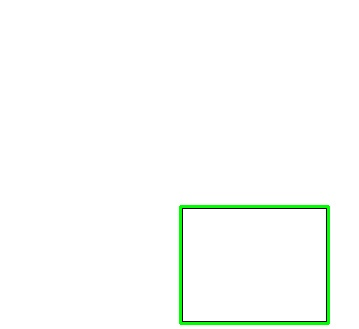line_segment: (179, 205, 330, 325)
